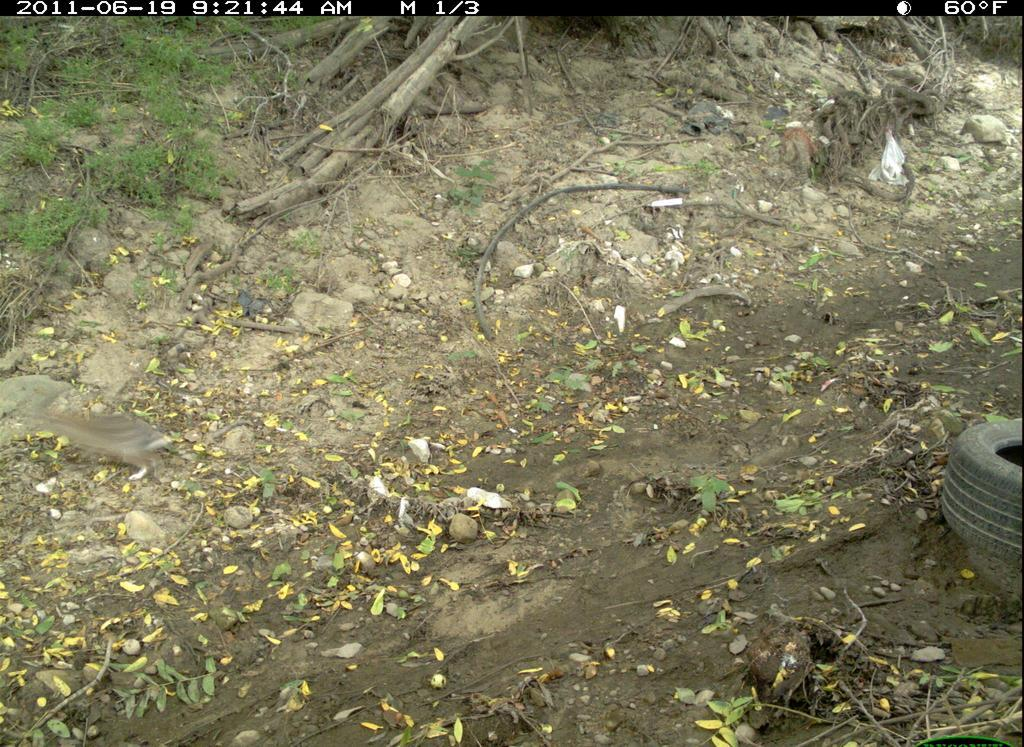rabbit: (27, 386, 177, 486)
